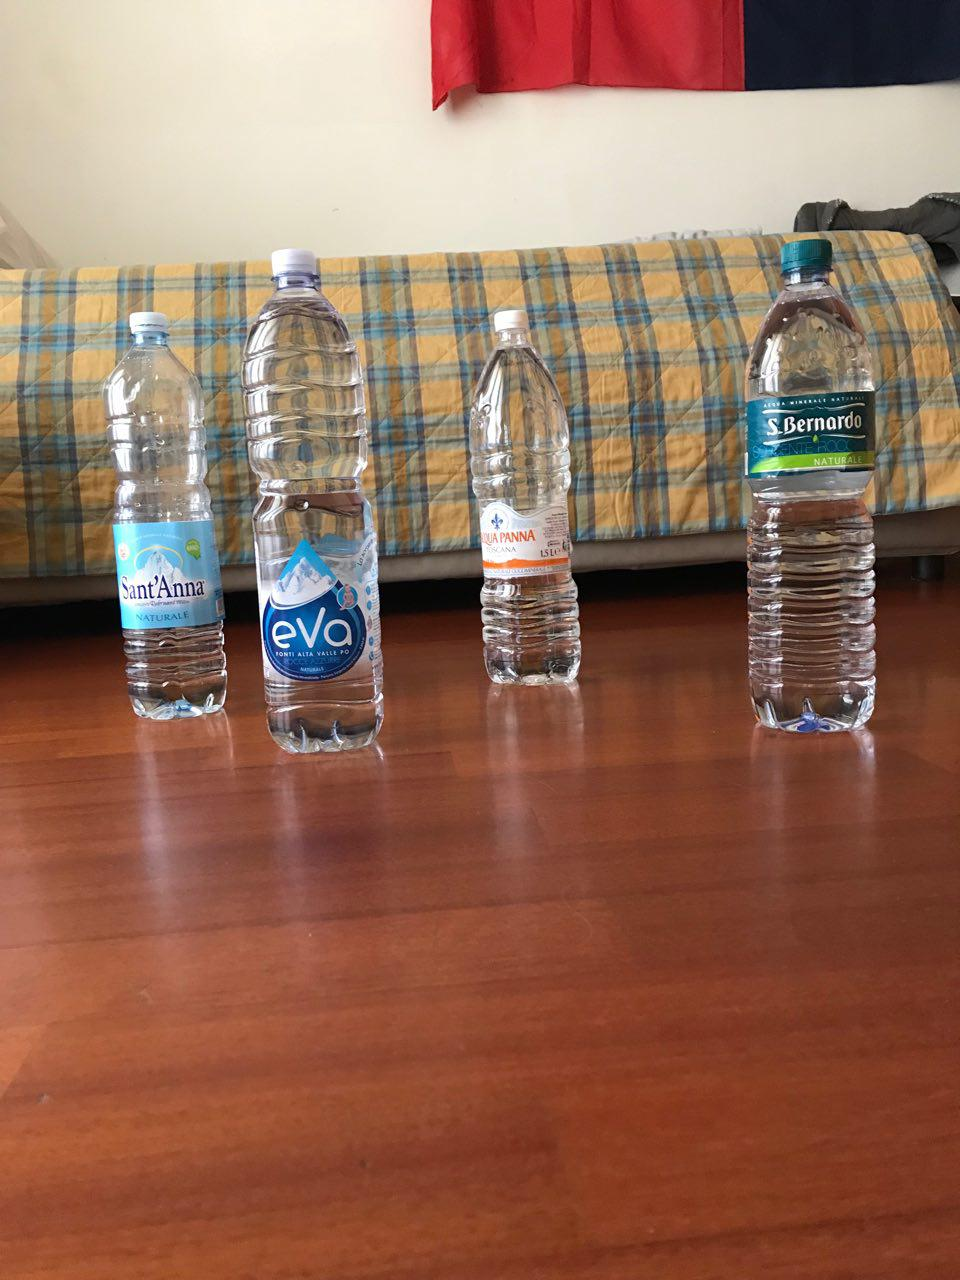san_bernardo: (743, 238, 879, 732)
